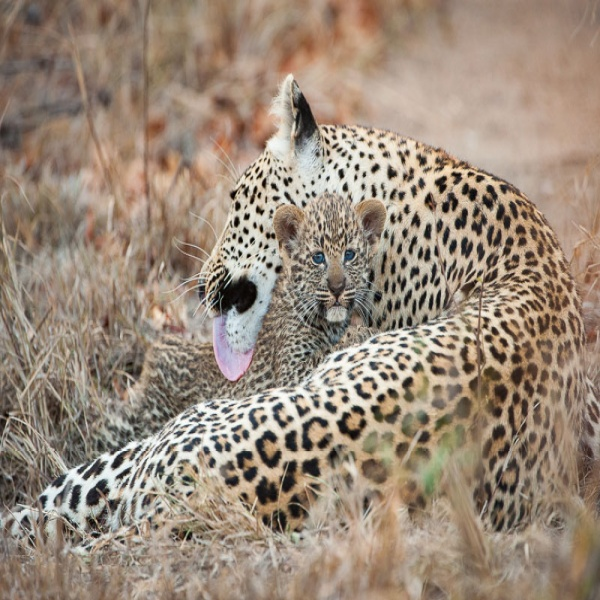Leopard: (11, 71, 593, 562), (185, 186, 396, 399)
